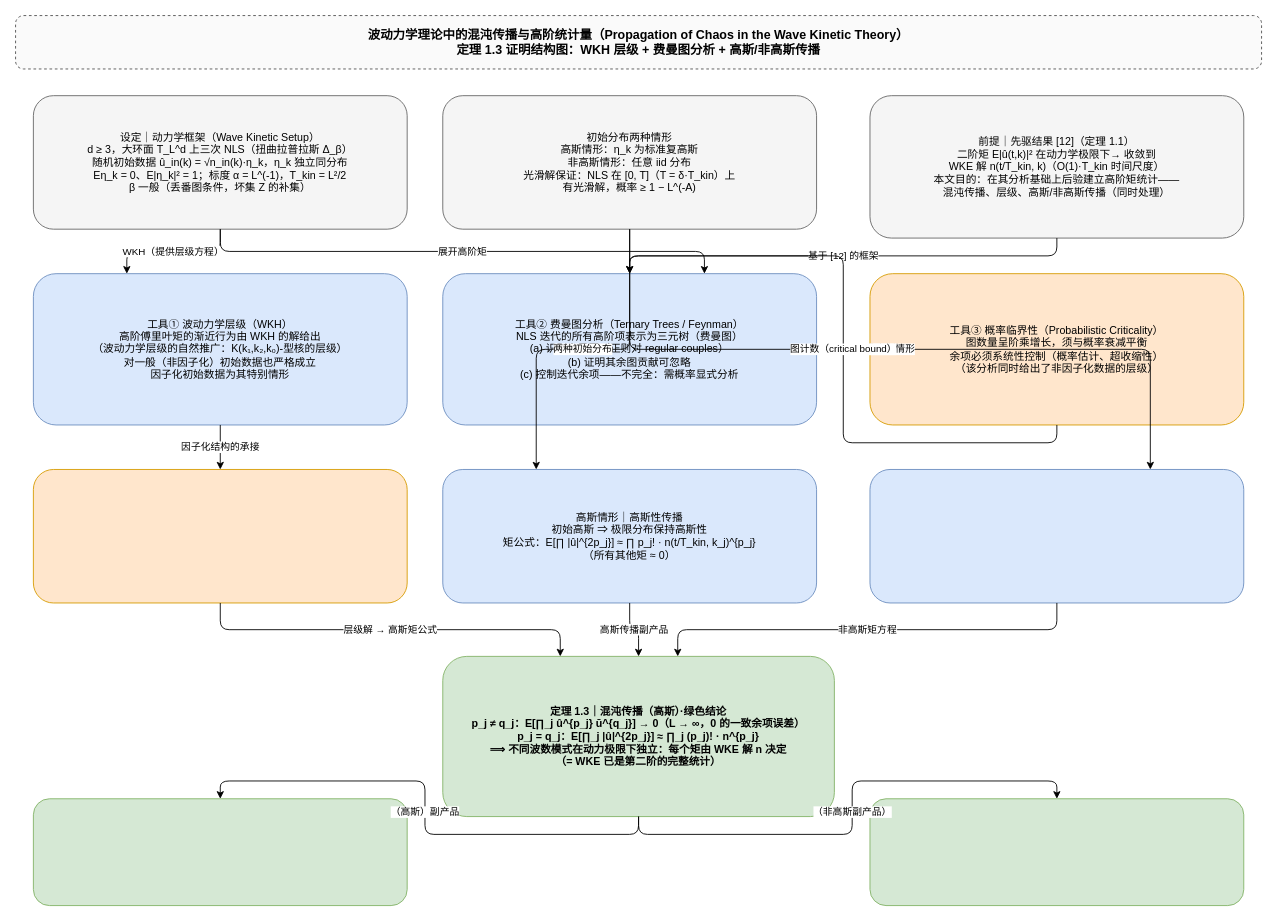
The diagram is 1277 pixels wide and 921 high, and some of its shapes have lost their labels. The shapes that lost their labels are listed below. From the top down, each one's centre as x and y in pixels, then its label:
At pixel 219 536: "关键步骤｜因子化初始数据 初始独立（因子化）⇒ WKH 解保持因子化结构 ＝混沌传播的精确定义（独立性在动力学极限中恢复 ；极限前动力学自然制造关联）".
At pixel 1056 536: "非高斯情形｜极限方程（新结果） 推导高阶矩与概率密度函数（PDF）的极限方程 部分印证物理文献中的猜想，部分结果全新 （此前完全开放）".
At pixel 219 852: "副产品｜高斯性传播 渐近分布保持高斯性（极限） 分布矩完全由 WKE 解 n 决定的独立乘积形式".
At pixel 1056 852: "副产品｜非高斯情形的完整统计 推导高阶矩 + PDF 极限方程（新结果） 动量极限中解统计量的完整描述（高斯与非高斯）".
